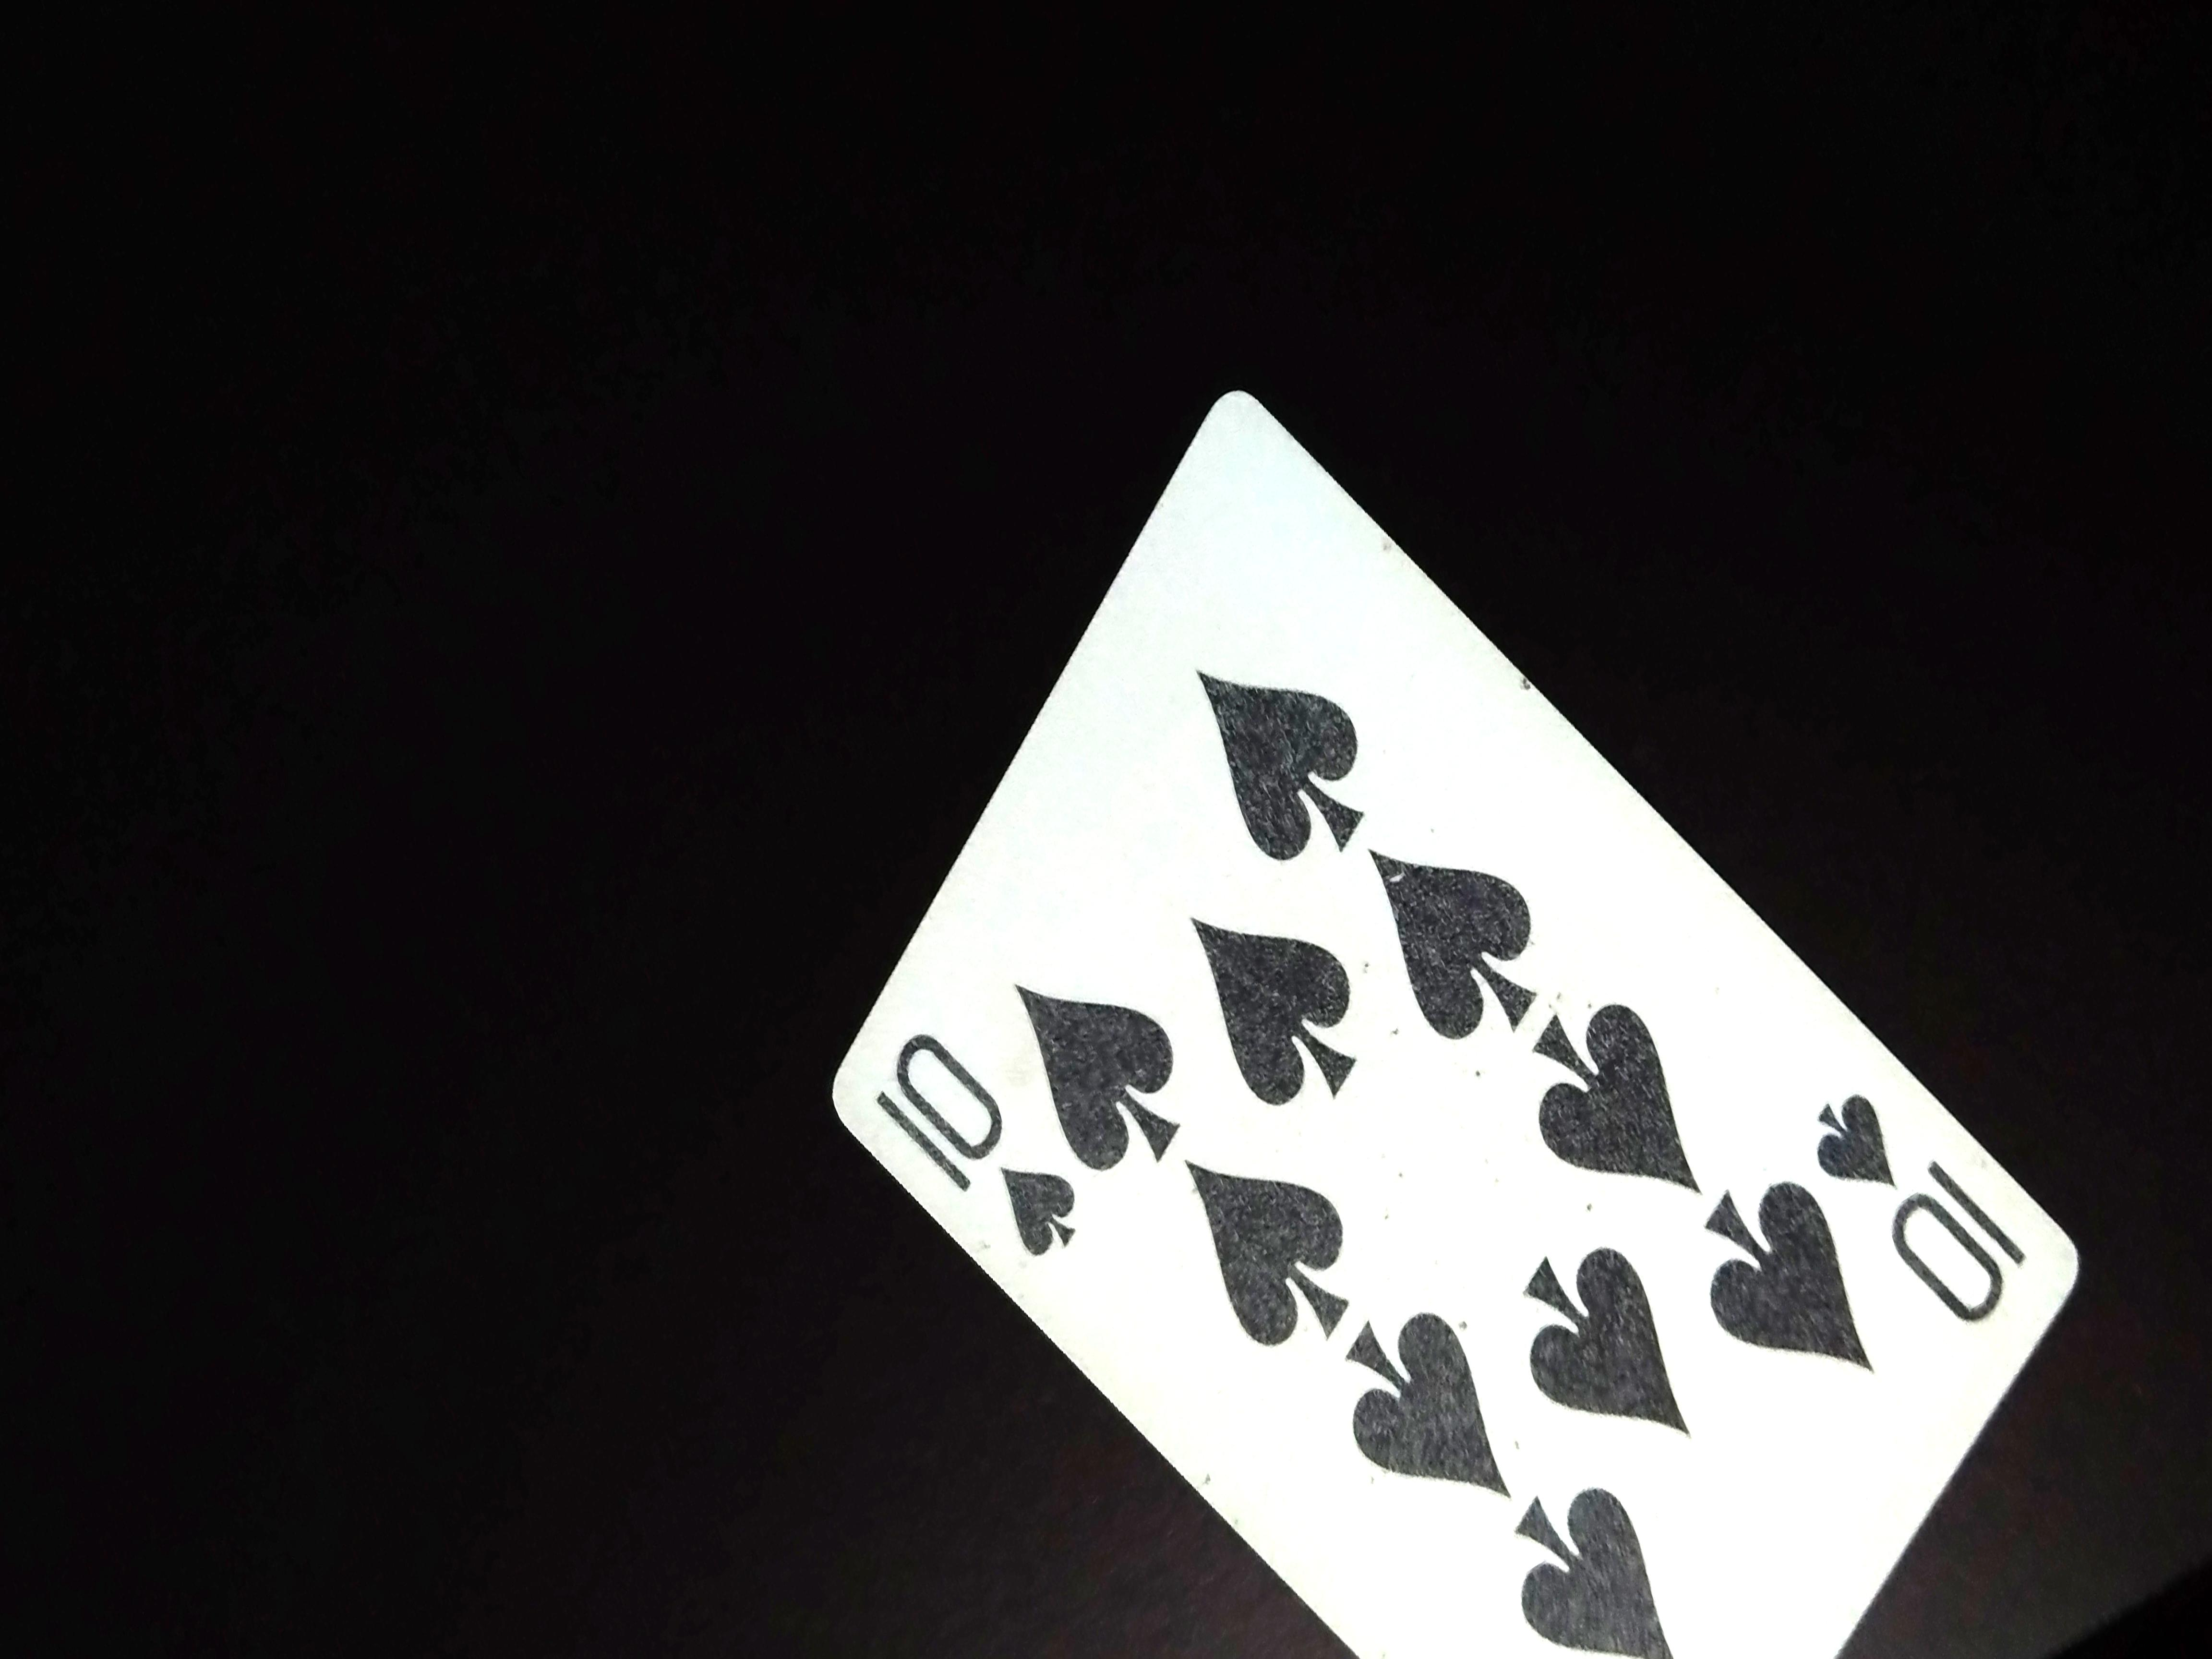10S: (871, 1026, 1073, 1276)
